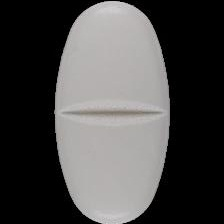42254-054: (0, 0, 224, 224)
